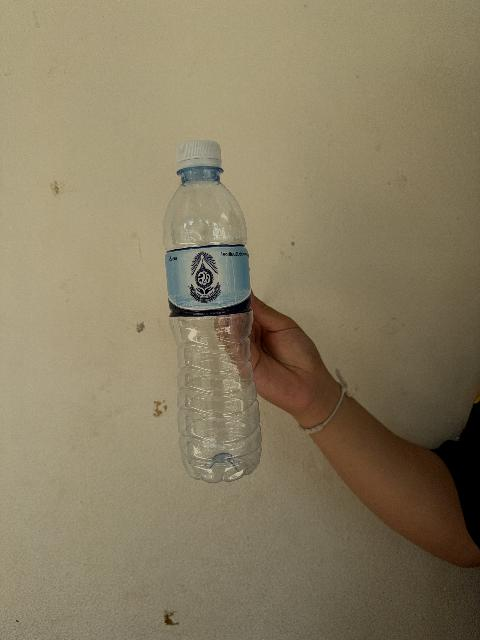bottle: (164, 141, 261, 482)
